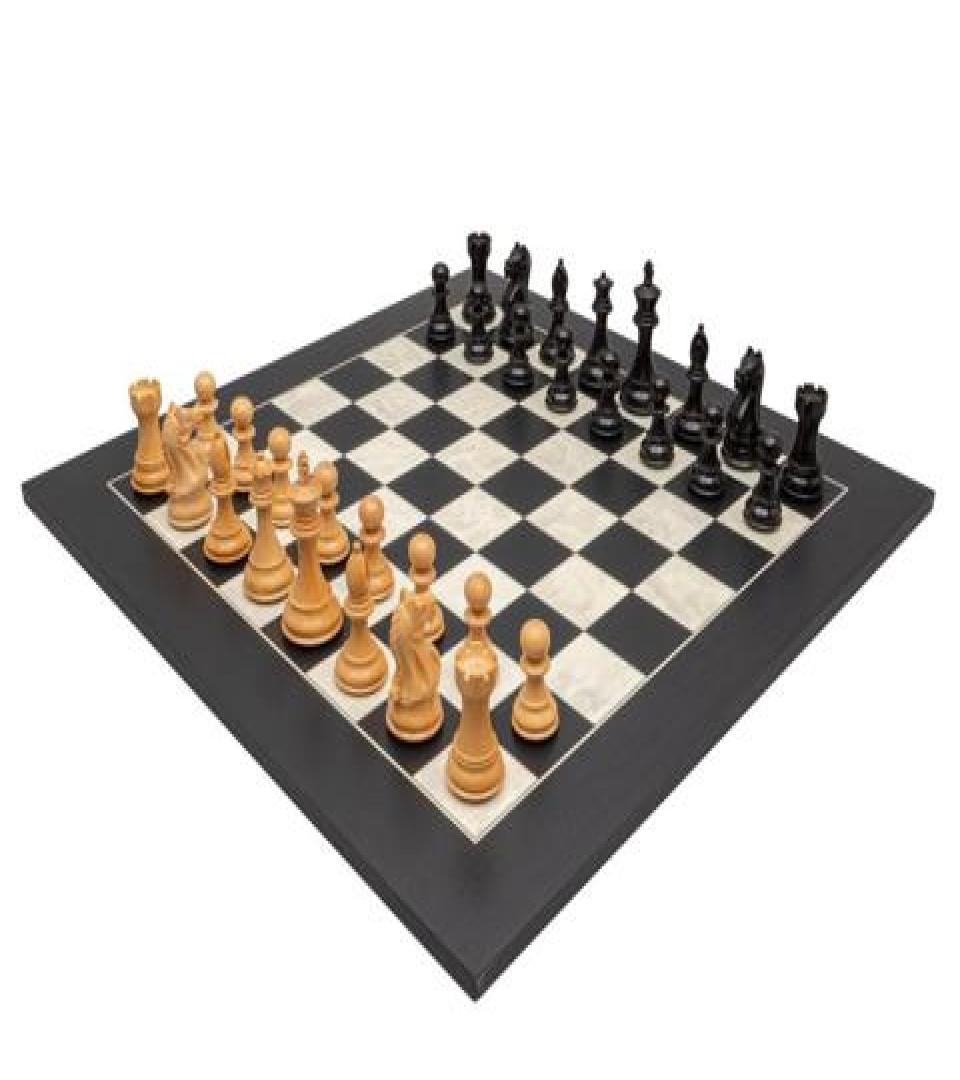xcorner: (346, 388, 362, 411), (299, 413, 315, 436), (511, 340, 527, 363), (429, 388, 445, 411), (232, 506, 248, 529), (552, 364, 568, 387), (471, 416, 487, 439), (426, 444, 442, 467), (327, 506, 343, 529), (272, 541, 288, 564), (557, 416, 573, 439), (515, 444, 531, 467), (471, 475, 487, 498), (563, 475, 579, 498), (518, 509, 534, 532), (613, 509, 629, 532), (569, 544, 585, 567), (521, 582, 537, 605), (747, 478, 763, 501), (709, 510, 725, 533), (577, 624, 593, 647), (469, 717, 485, 740), (472, 318, 488, 340), (432, 339, 448, 361), (391, 363, 407, 385), (248, 443, 264, 465), (194, 473, 210, 495), (471, 363, 487, 385), (385, 415, 401, 437), (337, 443, 353, 465), (286, 474, 302, 496), (513, 390, 529, 412), (379, 474, 395, 496), (596, 390, 612, 412), (423, 508, 439, 530), (371, 543, 387, 565), (316, 581, 332, 603), (643, 418, 659, 440), (604, 446, 620, 468), (470, 543, 486, 565), (419, 581, 435, 603), (363, 622, 379, 644), (693, 446, 709, 468), (655, 477, 671, 499), (470, 623, 486, 645), (414, 668, 430, 690), (668, 546, 684, 568), (624, 584, 640, 606), (525, 668, 541, 690)
